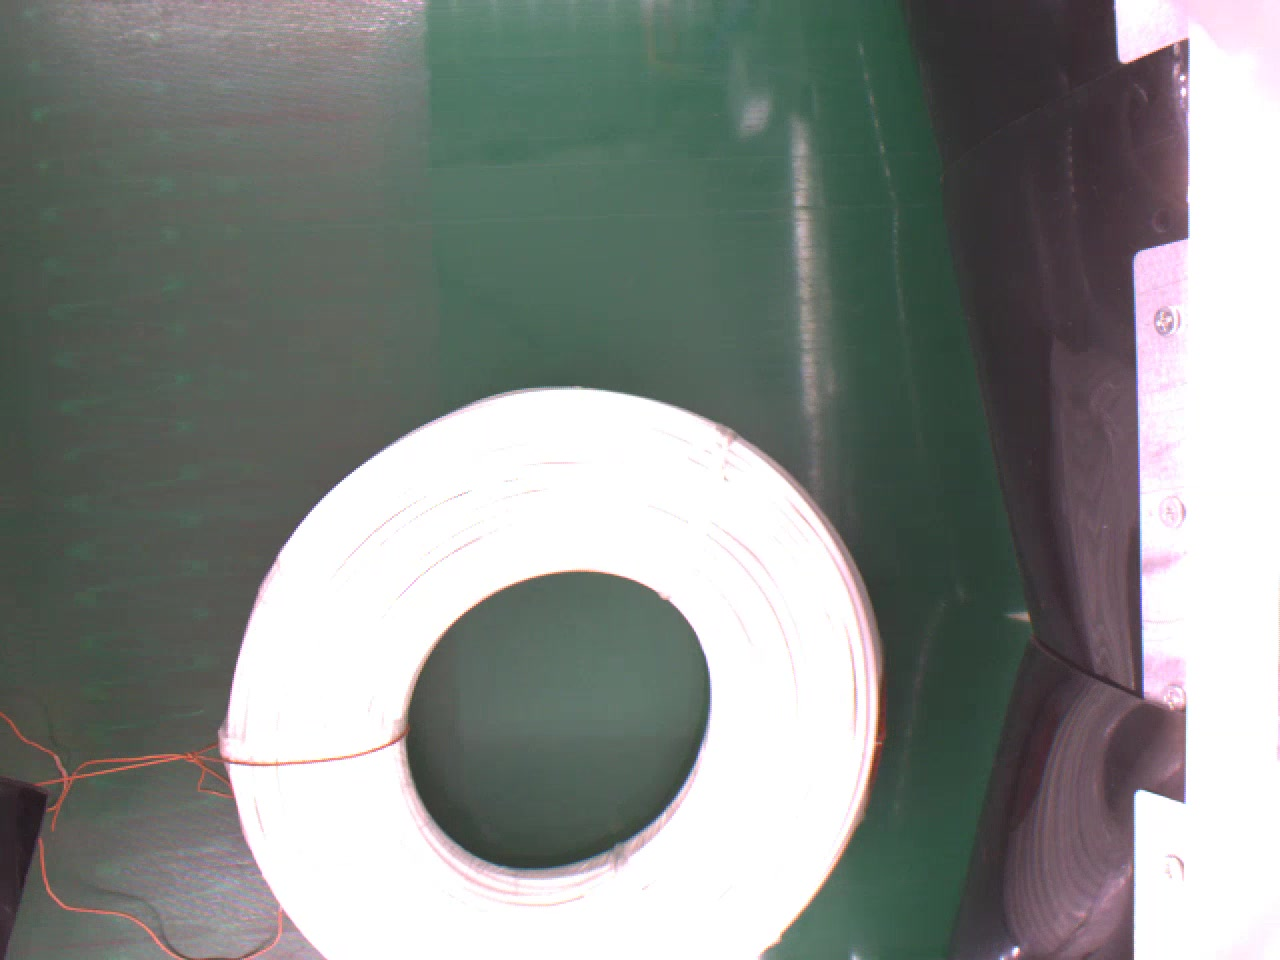white: (226, 383, 902, 960)
